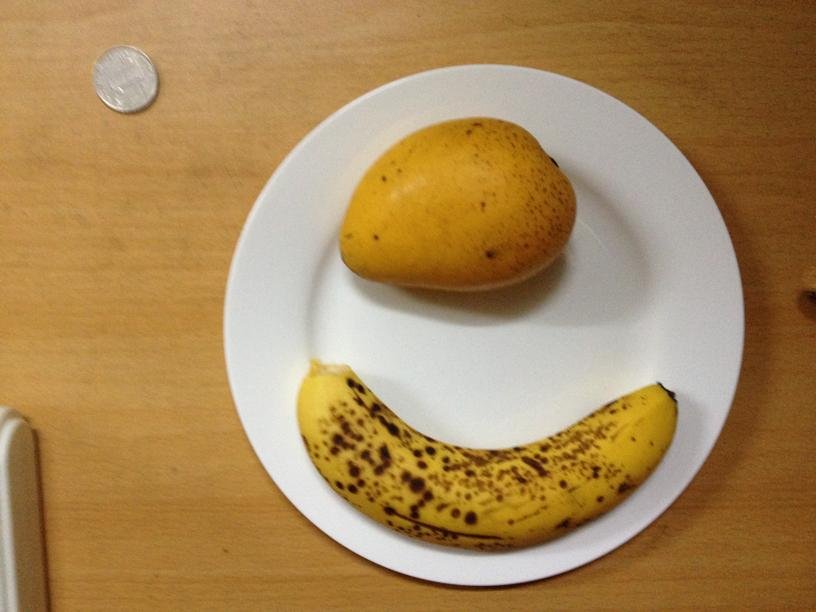banana: (295, 361, 675, 549)
coin: (91, 45, 157, 113)
mango: (340, 119, 573, 291)
